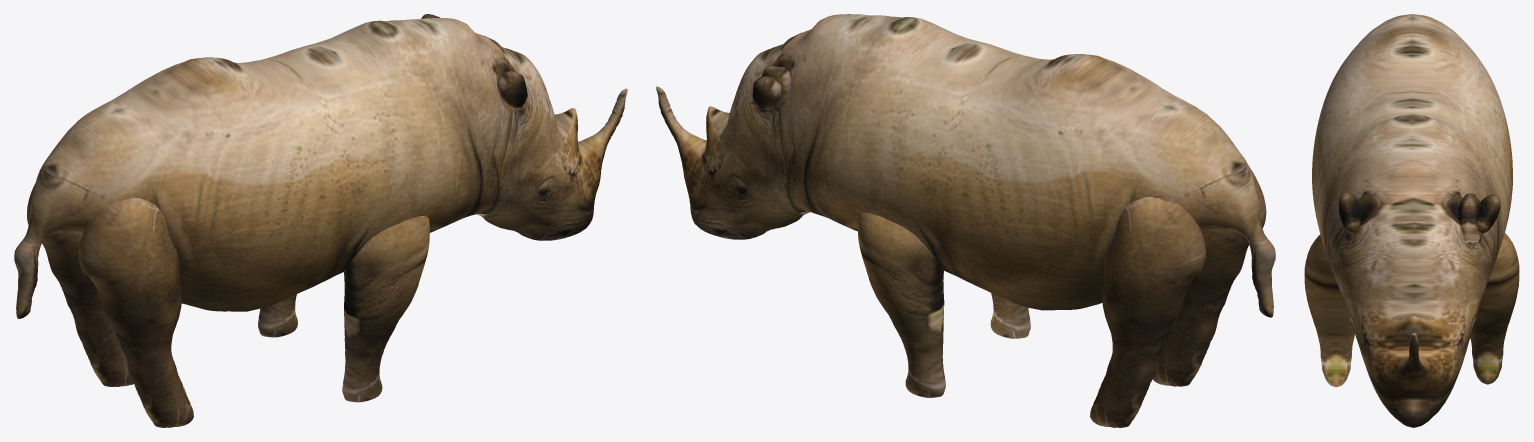
Rendered from rhino.fbx.
3 renders of one model, left to right at view 1: azimuth 30°, elevation 25°; view 2: azimuth 150°, elevation 25°; view 3: azimuth 270°, elevation 25°, orthographic. The views are drawn at different scales.
Parts seen in each view (by area): view 1: Mesh_0; view 2: Mesh_0; view 3: Mesh_0.
Boxes of the visible parts, x1,y1,x2,y2 form: Mesh_0: (14,14,627,427); Mesh_0: (656,14,1275,427); Mesh_0: (1304,14,1519,427).
Size of the model in its own units: 835 by 434 by 283.
1 material, 1 textured.
